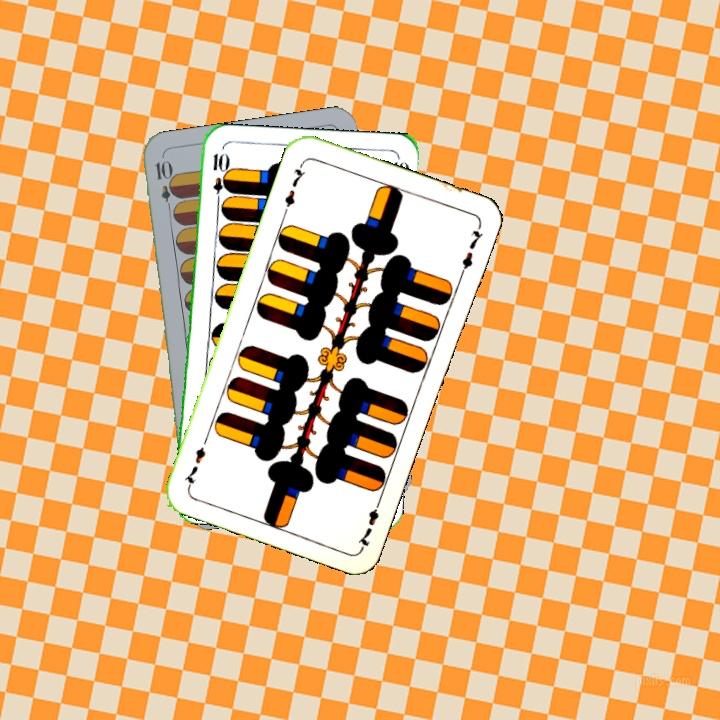E10: (151, 156, 176, 216), (209, 149, 227, 208)
E7: (353, 493, 385, 551), (280, 158, 308, 215)
